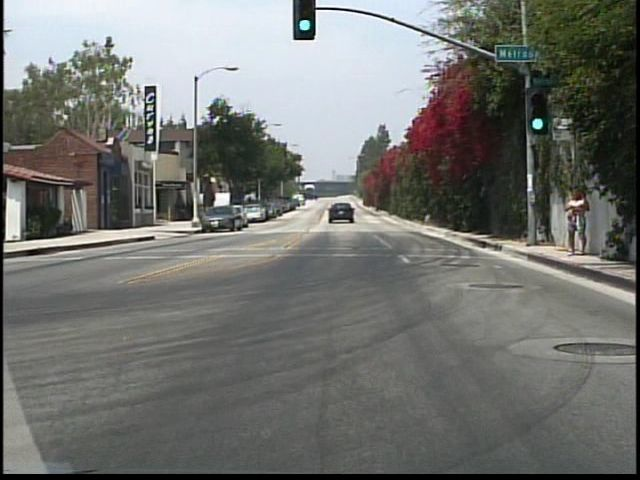person: (562, 188, 594, 258)
